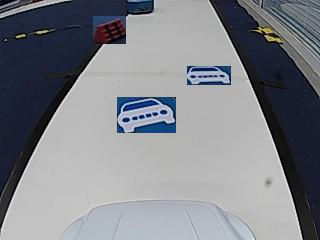prop: (128, 0, 153, 15)
